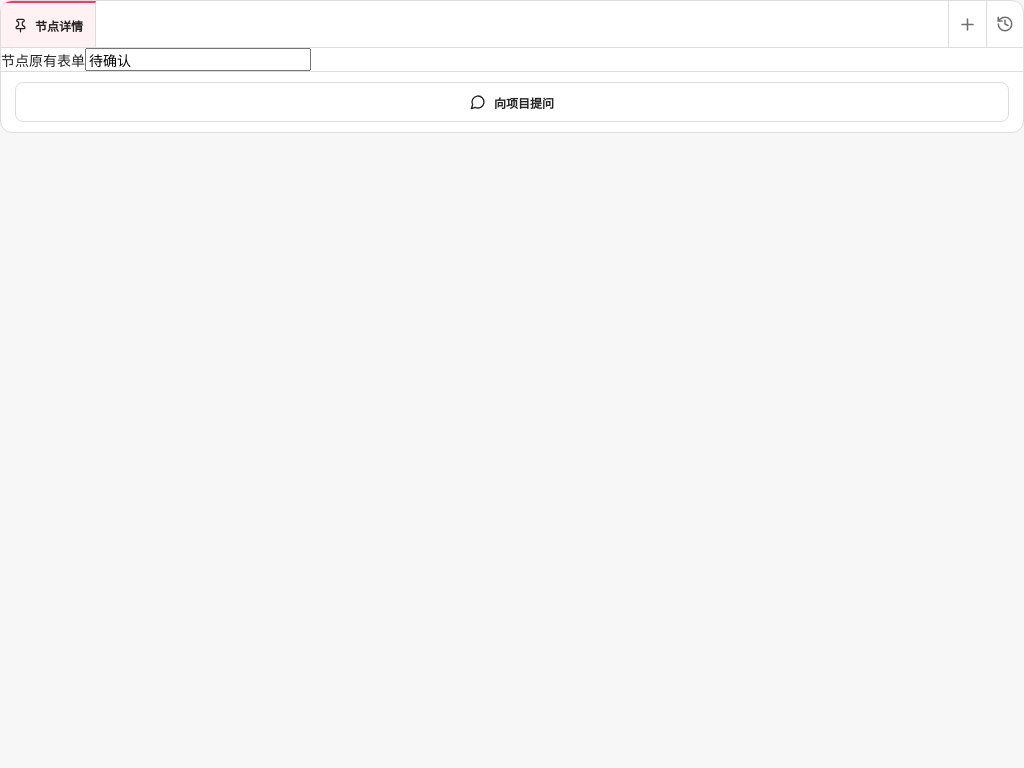
Test: workbench tabs and independent conversation interaction › keeps creation failures visible in the dialog without losing its executor or prefilled question
The image size is (1024, 768).
Click the button "向项目提问" at [512, 102], box [15,82,1009,122]
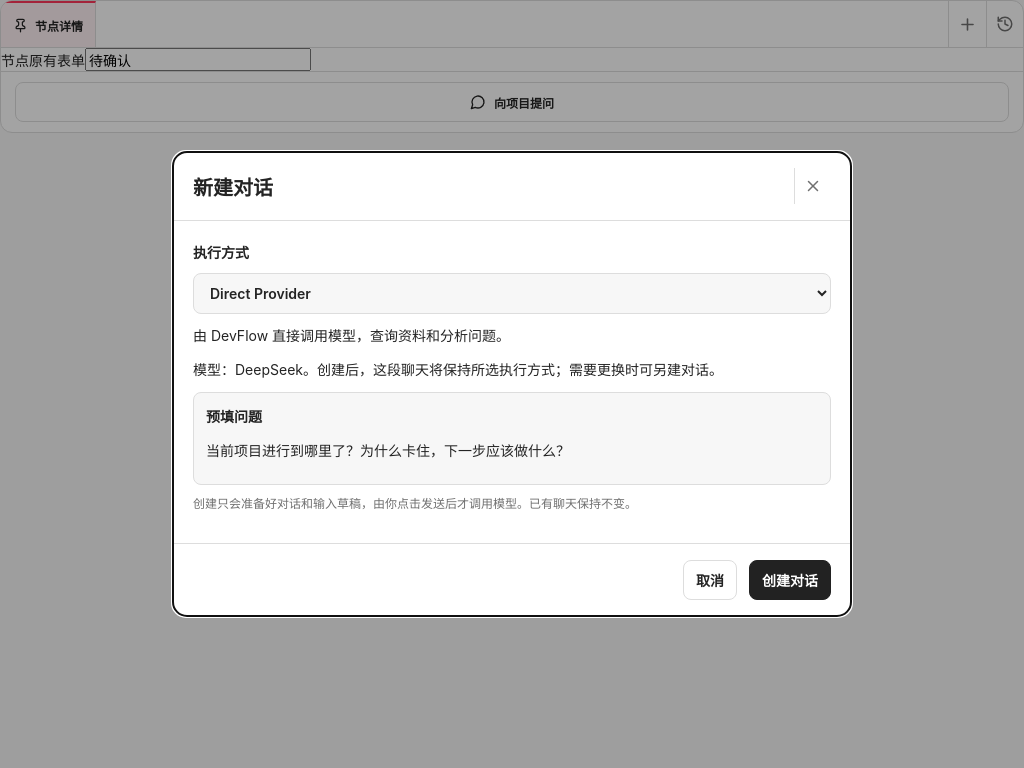
Select "OpenCode" in the dropdown named "新对话执行方式" at [512, 294], box [193,273,831,314]
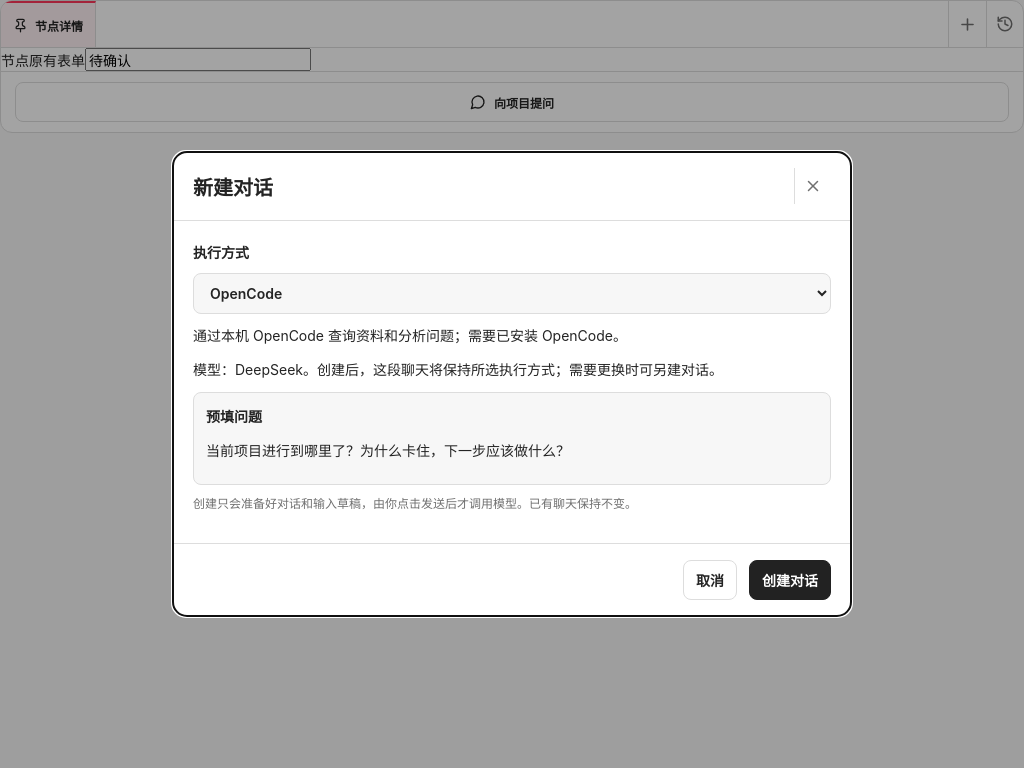
Click the button "创建对话" at [790, 580], box [749,560,831,600]
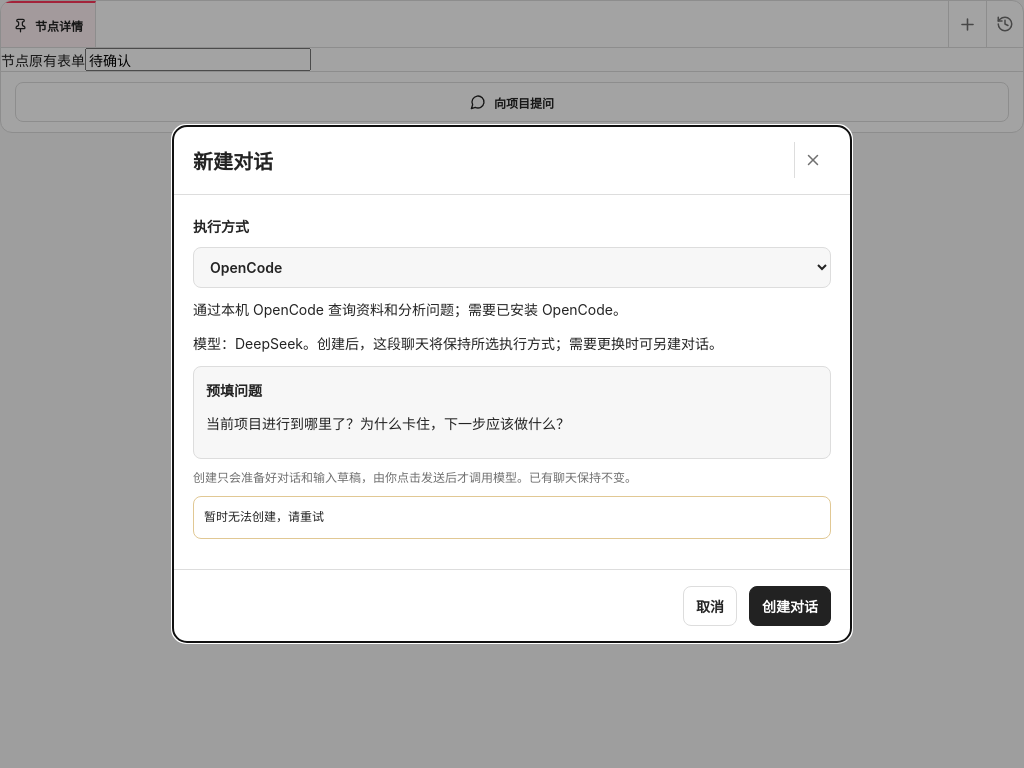
Expected: the message reads "暂时无法创建，请重试", [204,510,324,524]
Click the button "创建对话" at [790, 606], box [749,586,831,626]
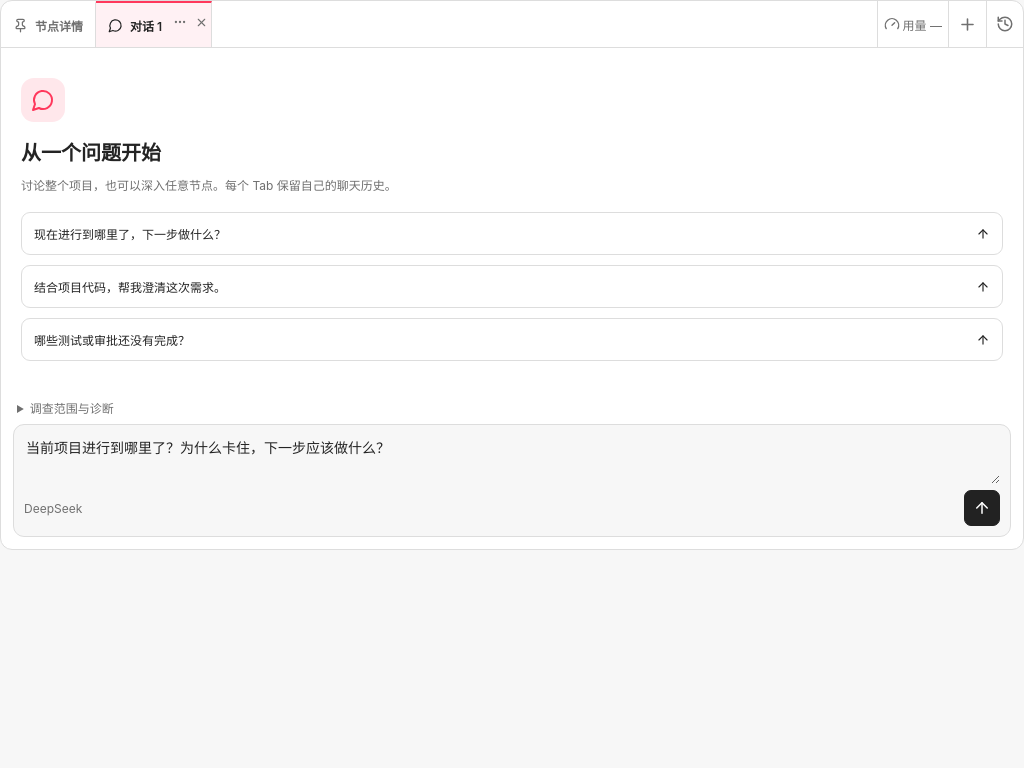
Expected: the tab "对话 1" is shown, [96,1,212,47]
